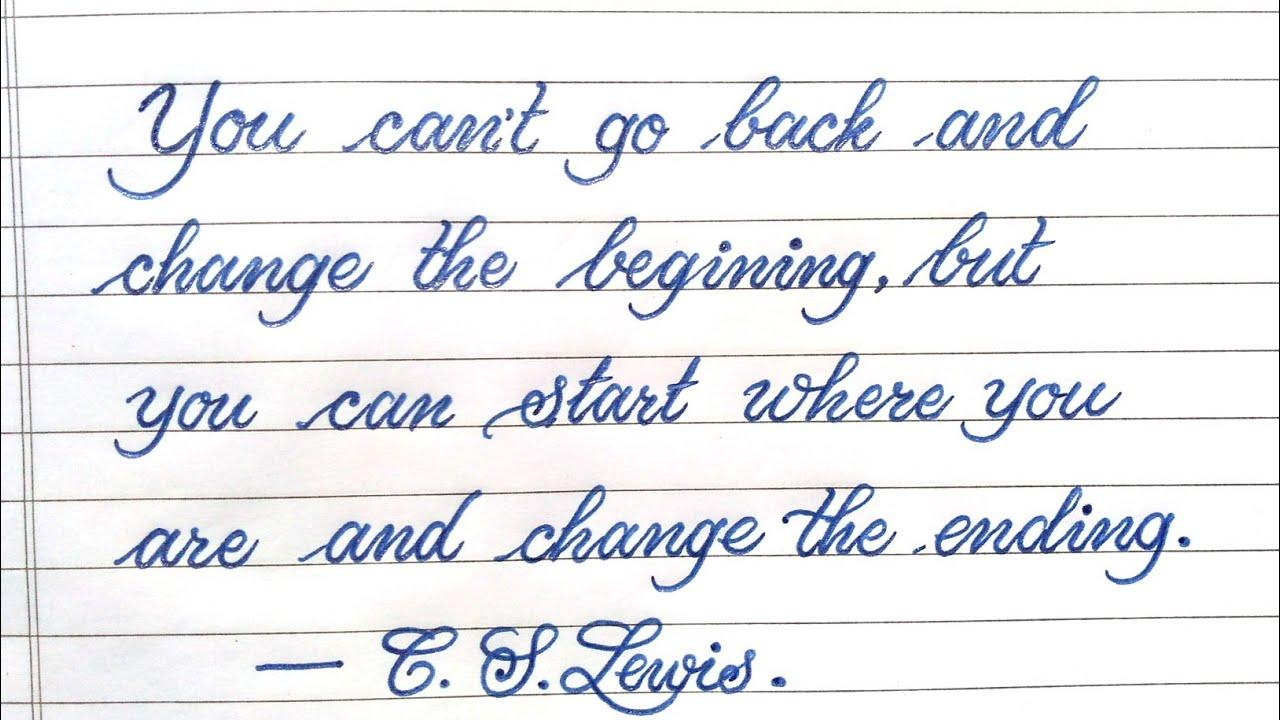text: (104, 71, 1104, 204), (109, 480, 1194, 597), (89, 208, 1058, 329), (111, 350, 1126, 463), (252, 614, 791, 717)
